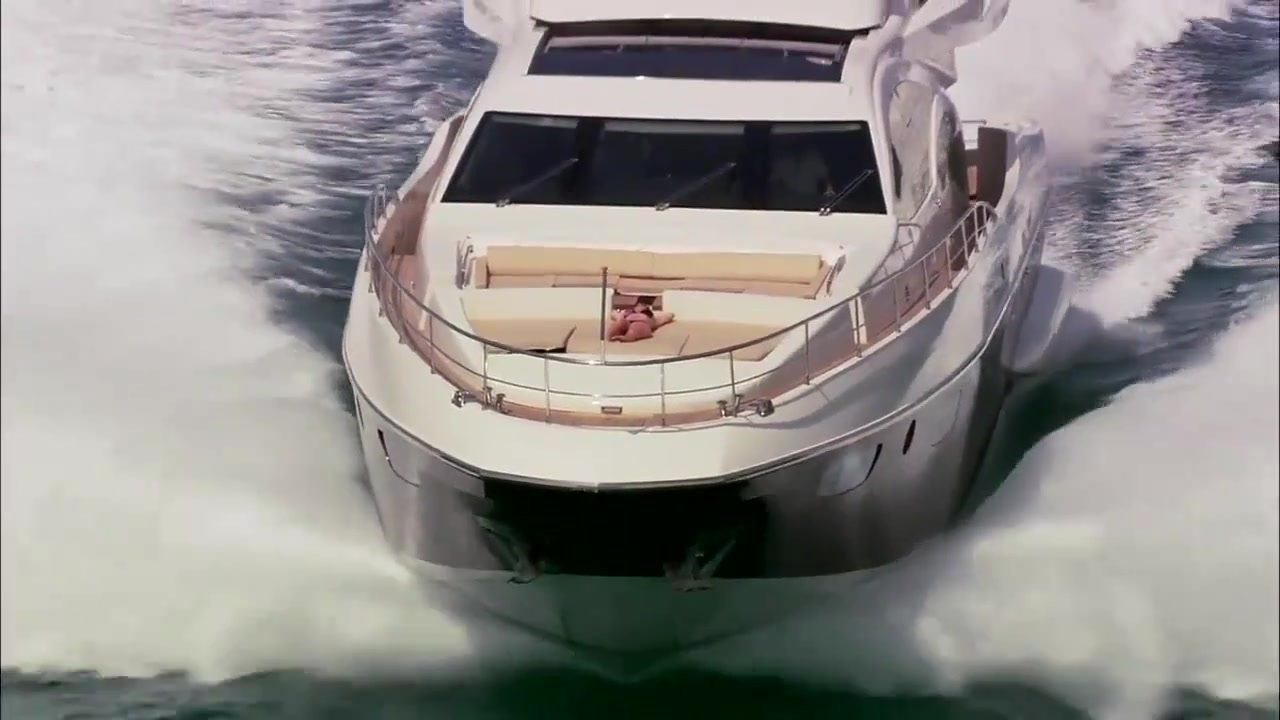boat: (334, 1, 1061, 692)
